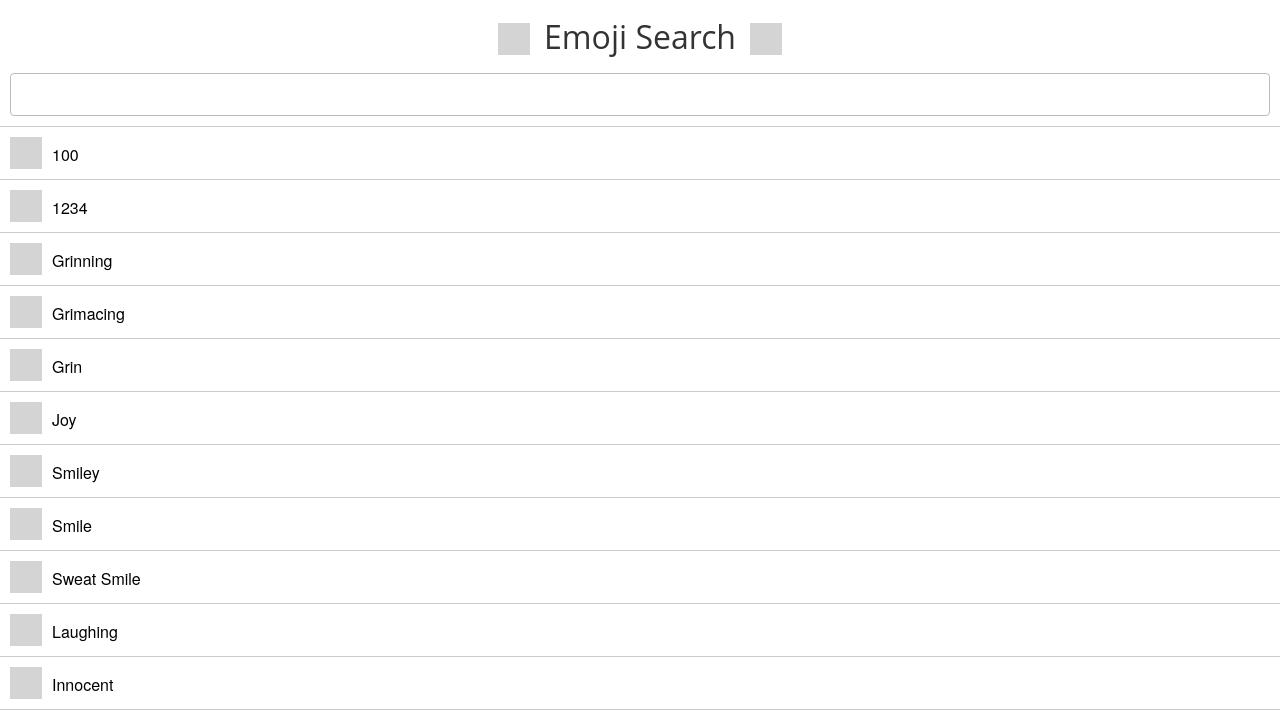
my first e2e test › allows user to search for an emoji
Step 1. Type "joy" into the field with test id "emoji-search-input" → (640, 95), box [10, 73, 1270, 116]
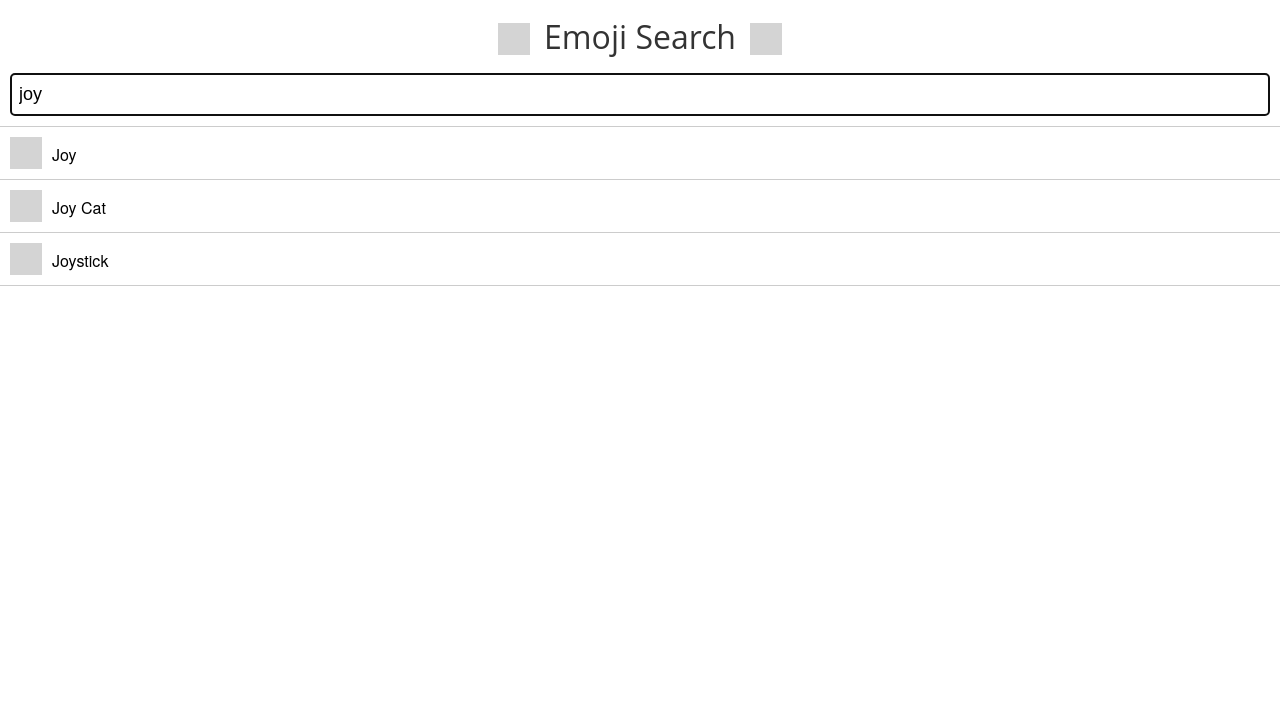
Expected: the number of elements with test id "emoji-row" is 3, [0, 127, 1279, 180]; [0, 180, 1279, 233]; [0, 233, 1279, 286]
Expected: the text "Joy Cat" is shown, [52, 196, 106, 219]
Expected: the text "Joystick" is shown, [52, 249, 108, 272]
Step 2. Replace the text in the field with test id "emoji-search-input" with "cactus" → (640, 95), box [10, 73, 1270, 116]
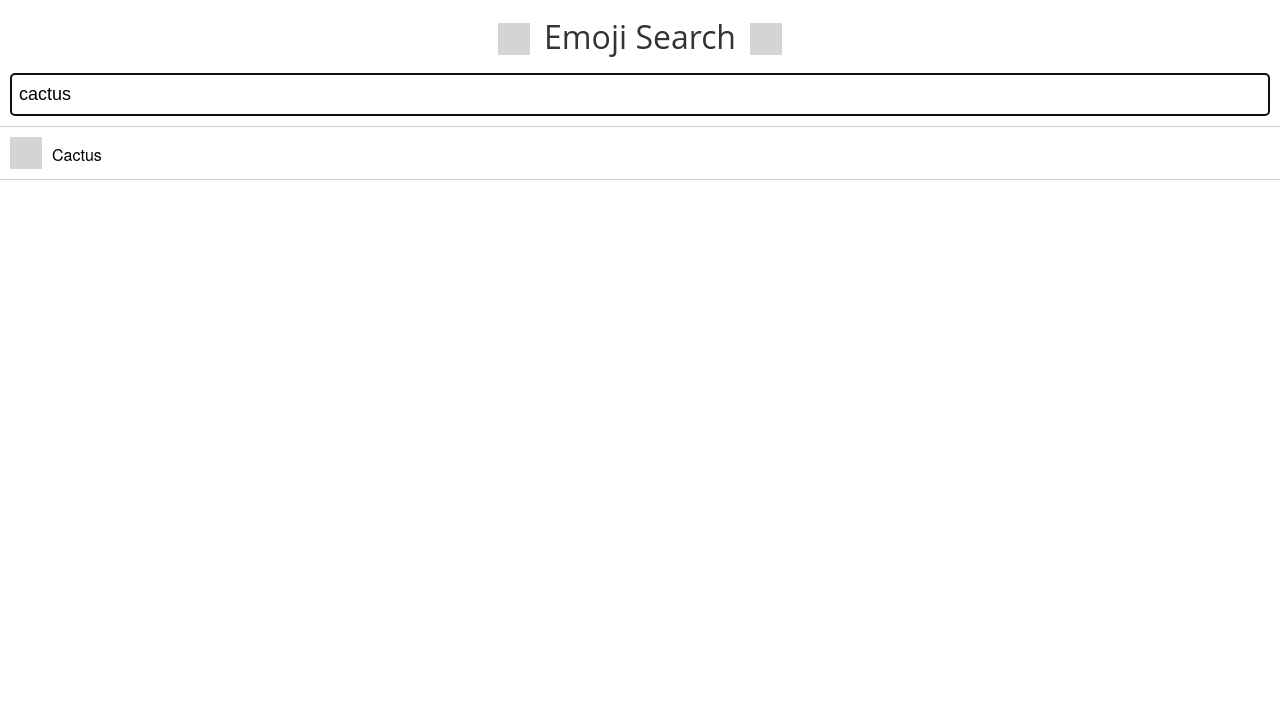
Expected: the number of elements with test id "emoji-row" is 1, [0, 127, 1279, 180]
Expected: the text "Cactus" is shown, [52, 143, 102, 166]
